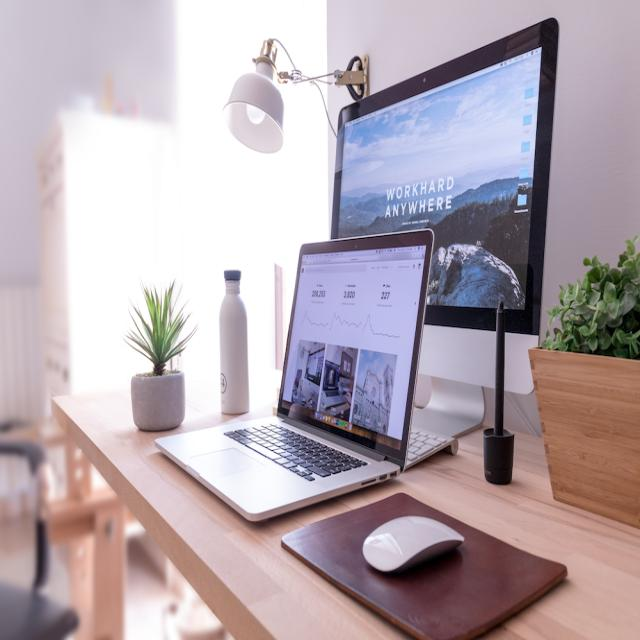keyboard: (155, 417, 391, 519)
